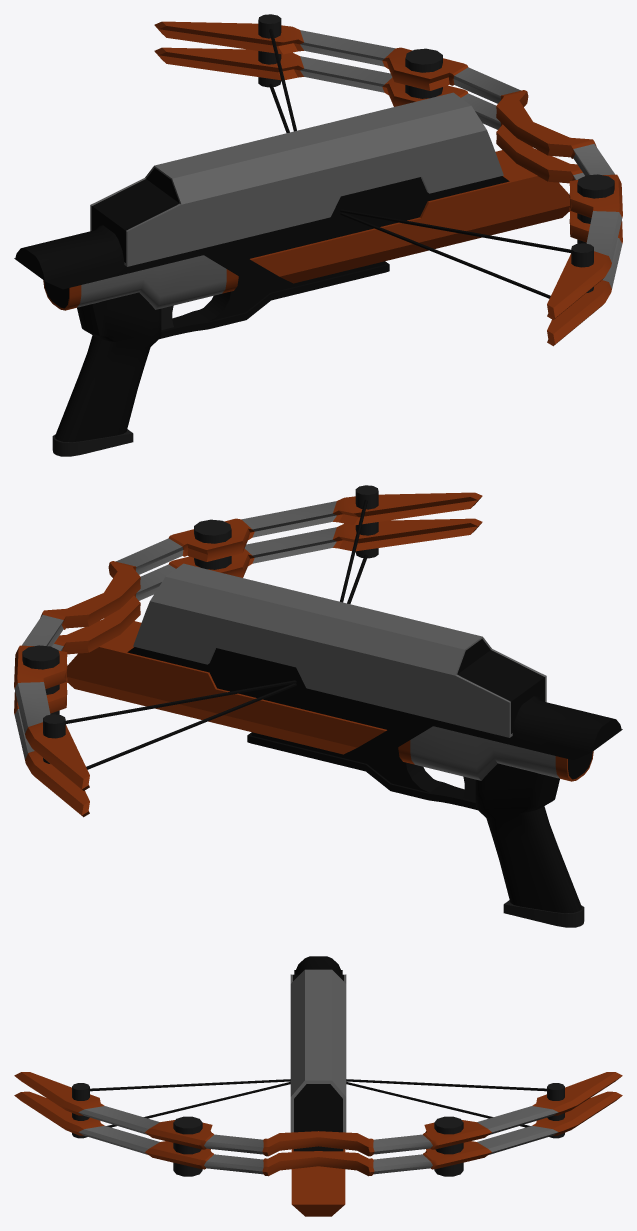
The model's file is Crossbow_2.obj.
3 renders of one model, top to bottom at view 1: azimuth 30°, elevation 25°; view 2: azimuth 150°, elevation 25°; view 3: azimuth 270°, elevation 25°, orthographic. The views are drawn at different scales.
Visible parts, largest first — view 1: Crossbow_2_Cube.173; view 2: Crossbow_2_Cube.173; view 3: Crossbow_2_Cube.173.
Part boxes in pixels (<box>): Crossbow_2_Cube.173: <box>14,14,622,456</box>; Crossbow_2_Cube.173: <box>14,485,622,927</box>; Crossbow_2_Cube.173: <box>14,956,622,1216</box>.
Bounding box in the file's own units: 1.47 × 0.6749 × 1.92.
